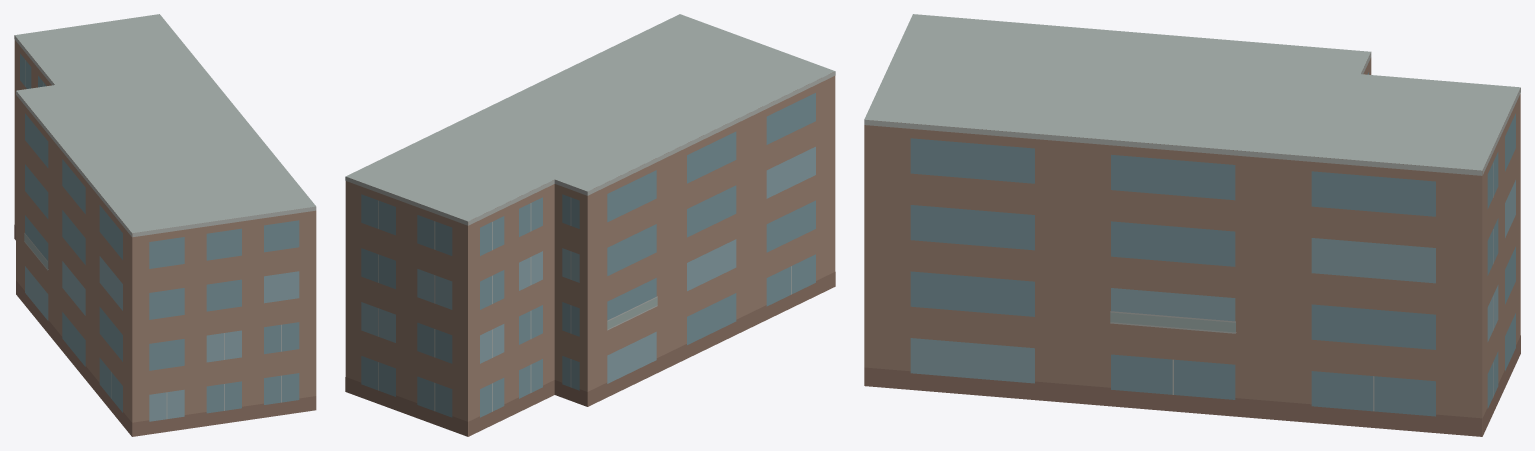
File: residential-31b33548-2216-4965-bea5-e65e52059500.glb
The picture shows the model from 3 angles, left to right: view 1: azimuth 30°, elevation 25°; view 2: azimuth 150°, elevation 25°; view 3: azimuth 270°, elevation 25°; orthographic projection. The views are drawn at different scales.
Visible parts, largest first — view 1: residential-31b33548-2216-4965-bea5-e65e52059500.tmp; view 2: residential-31b33548-2216-4965-bea5-e65e52059500.tmp; view 3: residential-31b33548-2216-4965-bea5-e65e52059500.tmp.
Boxes of the visible parts, x1,y1,x2,y2 form: residential-31b33548-2216-4965-bea5-e65e52059500.tmp: [14, 14, 316, 436]; residential-31b33548-2216-4965-bea5-e65e52059500.tmp: [345, 14, 835, 436]; residential-31b33548-2216-4965-bea5-e65e52059500.tmp: [864, 14, 1520, 436].
Bounding box in the file's own units: 15.39 × 12.2 × 27.27.
